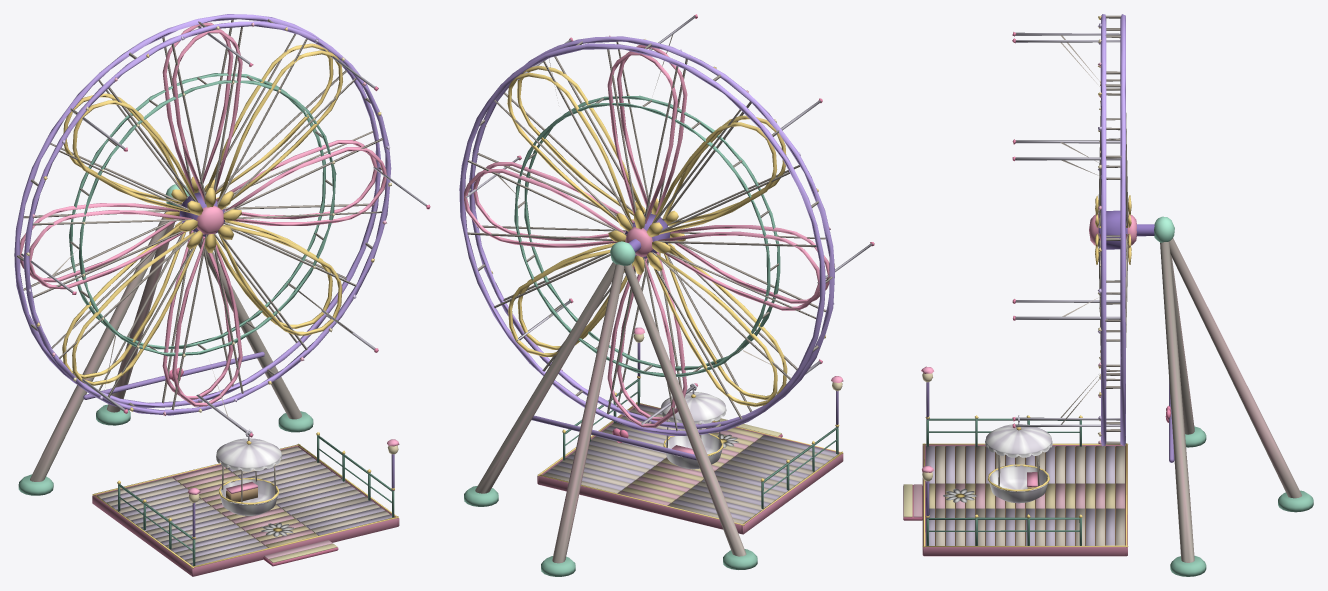
The model's file is act_ferris_wheel_lite.glb.
3 views of the same model, side by side, from view 1: azimuth 30°, elevation 25°; view 2: azimuth 150°, elevation 25°; view 3: azimuth 270°, elevation 25° (orthographic). The views are drawn at different scales.
Parts seen in each view (by area): view 1: SM_act_ferris_wheel_lite_wheel_gloss, SM_act_ferris_wheel_lite_base_deck, SM_act_ferris_wheel_lite_wheel, SM_act_ferris_wheel_lite_base, SM_act_ferris_wheel_lite_gondola_tint_cab, SM_act_ferris_wheel_lite_base_gloss, SM_act_ferris_wheel_lite_wheel_bulb, SM_act_ferris_wheel_lite_gondola_gloss; view 2: SM_act_ferris_wheel_lite_wheel_gloss, SM_act_ferris_wheel_lite_base_deck, SM_act_ferris_wheel_lite_wheel, SM_act_ferris_wheel_lite_base, SM_act_ferris_wheel_lite_gondola_tint_cab, SM_act_ferris_wheel_lite_base_gloss; view 3: SM_act_ferris_wheel_lite_base_deck, SM_act_ferris_wheel_lite_base, SM_act_ferris_wheel_lite_wheel_gloss, SM_act_ferris_wheel_lite_gondola_tint_cab, SM_act_ferris_wheel_lite_wheel, SM_act_ferris_wheel_lite_base_gloss, SM_act_ferris_wheel_lite_gondola_gloss.
Boxes of the visible parts, x1,y1,x2,y2 form: SM_act_ferris_wheel_lite_wheel_gloss: [14, 14, 430, 437]; SM_act_ferris_wheel_lite_base_deck: [92, 445, 399, 576]; SM_act_ferris_wheel_lite_wheel: [17, 19, 382, 417]; SM_act_ferris_wheel_lite_base: [18, 212, 394, 566]; SM_act_ferris_wheel_lite_gondola_tint_cab: [216, 438, 281, 515]; SM_act_ferris_wheel_lite_base_gloss: [92, 184, 399, 568]; SM_act_ferris_wheel_lite_wheel_bulb: [26, 22, 391, 415]; SM_act_ferris_wheel_lite_gondola_gloss: [218, 429, 278, 504]; SM_act_ferris_wheel_lite_wheel_gloss: [459, 14, 874, 436]; SM_act_ferris_wheel_lite_base_deck: [537, 404, 843, 534]; SM_act_ferris_wheel_lite_wheel: [467, 34, 832, 431]; SM_act_ferris_wheel_lite_base: [464, 262, 838, 576]; SM_act_ferris_wheel_lite_gondola_tint_cab: [660, 392, 726, 469]; SM_act_ferris_wheel_lite_base_gloss: [537, 239, 843, 525]; SM_act_ferris_wheel_lite_base_deck: [903, 444, 1127, 556]; SM_act_ferris_wheel_lite_base: [926, 238, 1313, 576]; SM_act_ferris_wheel_lite_wheel_gloss: [1012, 14, 1136, 446]; SM_act_ferris_wheel_lite_gondola_tint_cab: [985, 424, 1052, 503]; SM_act_ferris_wheel_lite_wheel: [1060, 15, 1128, 444]; SM_act_ferris_wheel_lite_base_gloss: [921, 216, 1174, 547]; SM_act_ferris_wheel_lite_gondola_gloss: [988, 415, 1049, 491].
Size of the model in its own units: 13.27 by 15.96 by 12.6.
